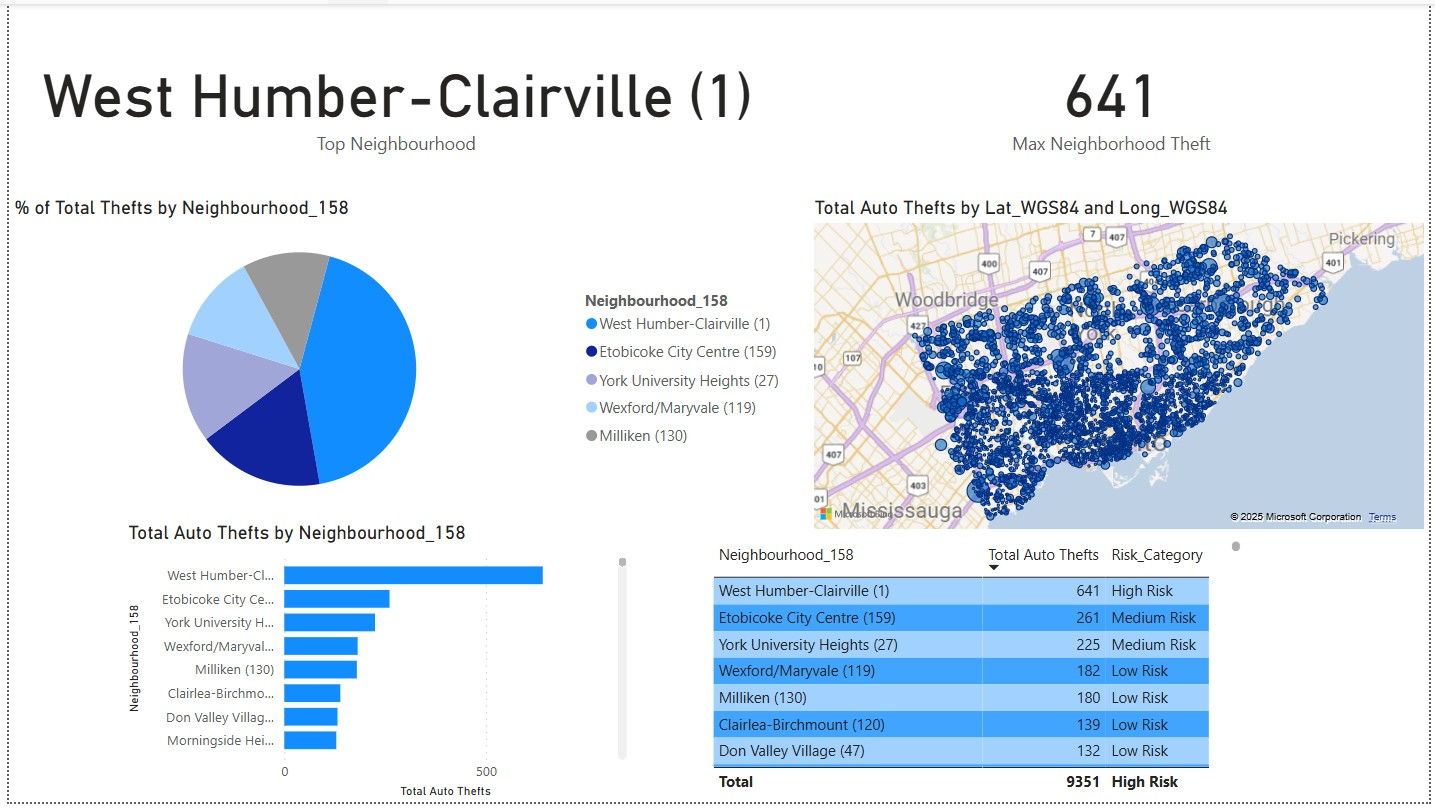

This screenshot's page, from the dashboard's own definition file:
{"tool":"powerbi","page":{"name":"Which neighborhoods have the highest auto thefts?","canvas":[1280,720],"ordinal":2},"visuals":[{"type":"card","fields":{"Values":["Autotheft2024.Max Neighborhood Theft"]},"box":[708,0,572.5,174],"z":0},{"type":"clusteredBarChart","fields":{"Category":["Dim_Neighbourhood.Neighbourhood_158"],"Y":["Autotheft2024.Total Auto Thefts"]},"box":[102.3,466.3,459.6,253.7],"z":1000},{"type":"tableEx","fields":{"Values":["Dim_Neighbourhood.Neighbourhood_158","Autotheft2024.Total Auto Thefts","Autotheft2024.Risk_Category"]},"box":[597.8,480.9,487.5,239.1],"z":2000},{"type":"card","fields":{"Values":["Autotheft2024.Top Neighbourhood"]},"box":[0,0,698.7,174],"z":3000},{"type":"pieChart","fields":{"Category":["Dim_Neighbourhood.Neighbourhood_158"],"Y":["Autotheft2024.% of Total Thefts"]},"box":[0,174,708,292.3],"z":4000},{"type":"map","fields":{"Y":["Dim_Coordinates.Lat_WGS84"],"X":["Dim_Coordinates.Long_WGS84"],"Size":["Autotheft2024.Total Auto Thefts"]},"box":[721.3,174,559.3,305.5],"z":5000}]}

Visuals, with their boxes in screenshot pixels (x1, y1, x2, y2), scaled from the page's 1280x720 canvas onto the 1435x810 screenshot:
card - Autotheft2024.Max Neighborhood Theft: <bbox>794, 0, 1434, 196</bbox>
clusteredBarChart - Dim_Neighbourhood.Neighbourhood_158 x Autotheft2024.Total Auto Thefts: <bbox>115, 525, 630, 809</bbox>
tableEx - Dim_Neighbourhood.Neighbourhood_158 x Autotheft2024.Total Auto Thefts: <bbox>670, 541, 1217, 809</bbox>
card - Autotheft2024.Top Neighbourhood: <bbox>0, 0, 783, 196</bbox>
pieChart - Dim_Neighbourhood.Neighbourhood_158 x Autotheft2024.% of Total Thefts: <bbox>0, 196, 794, 525</bbox>
map - Dim_Coordinates.Lat_WGS84 x Dim_Coordinates.Long_WGS84: <bbox>809, 196, 1434, 539</bbox>
